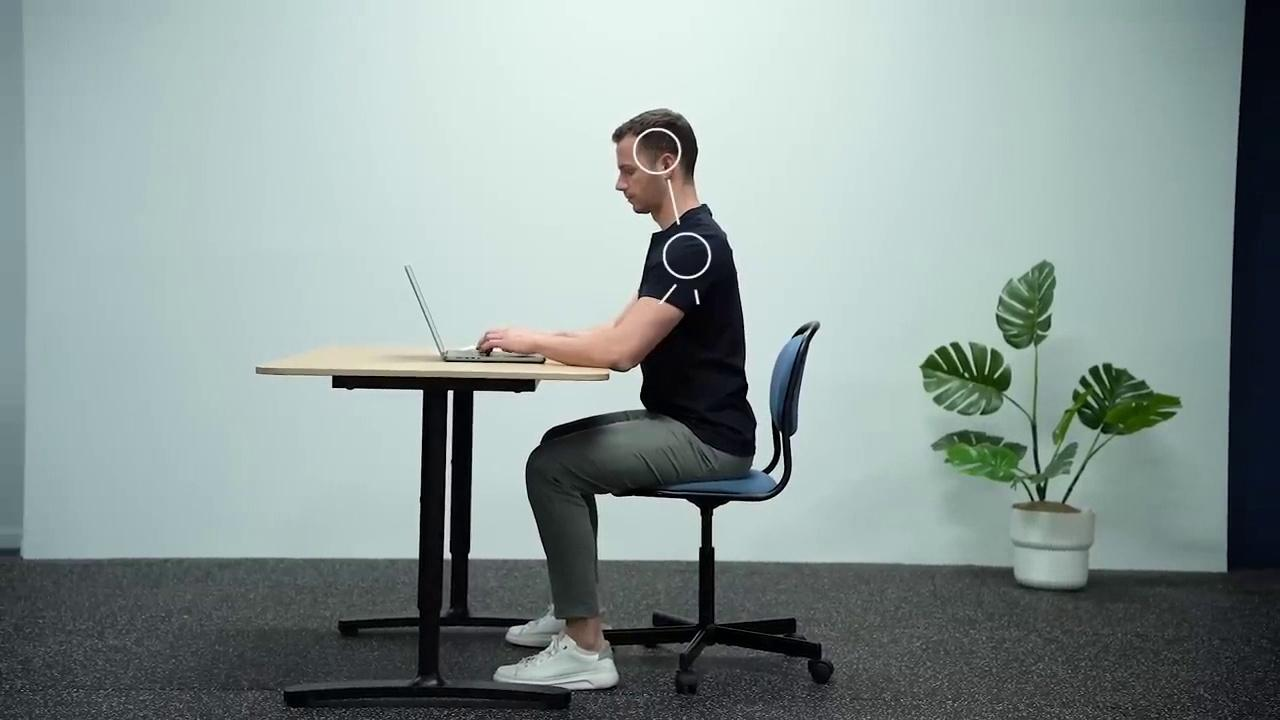GoodPosture: (477, 109, 756, 689)
